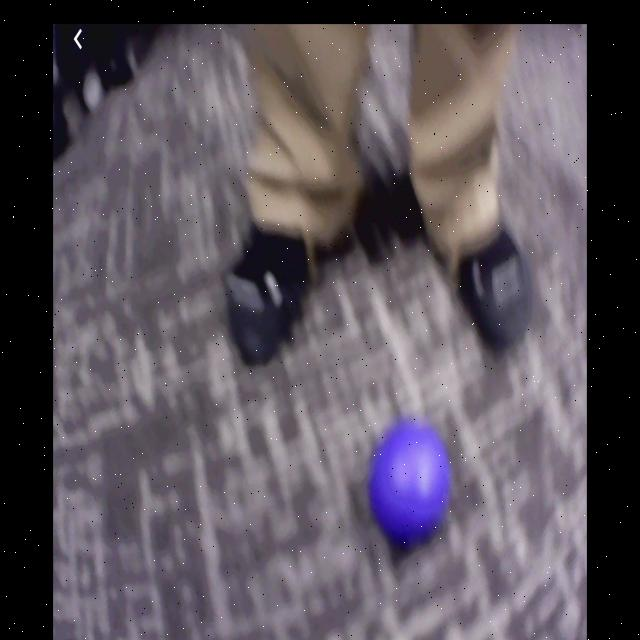ball: (372, 421, 454, 536)
